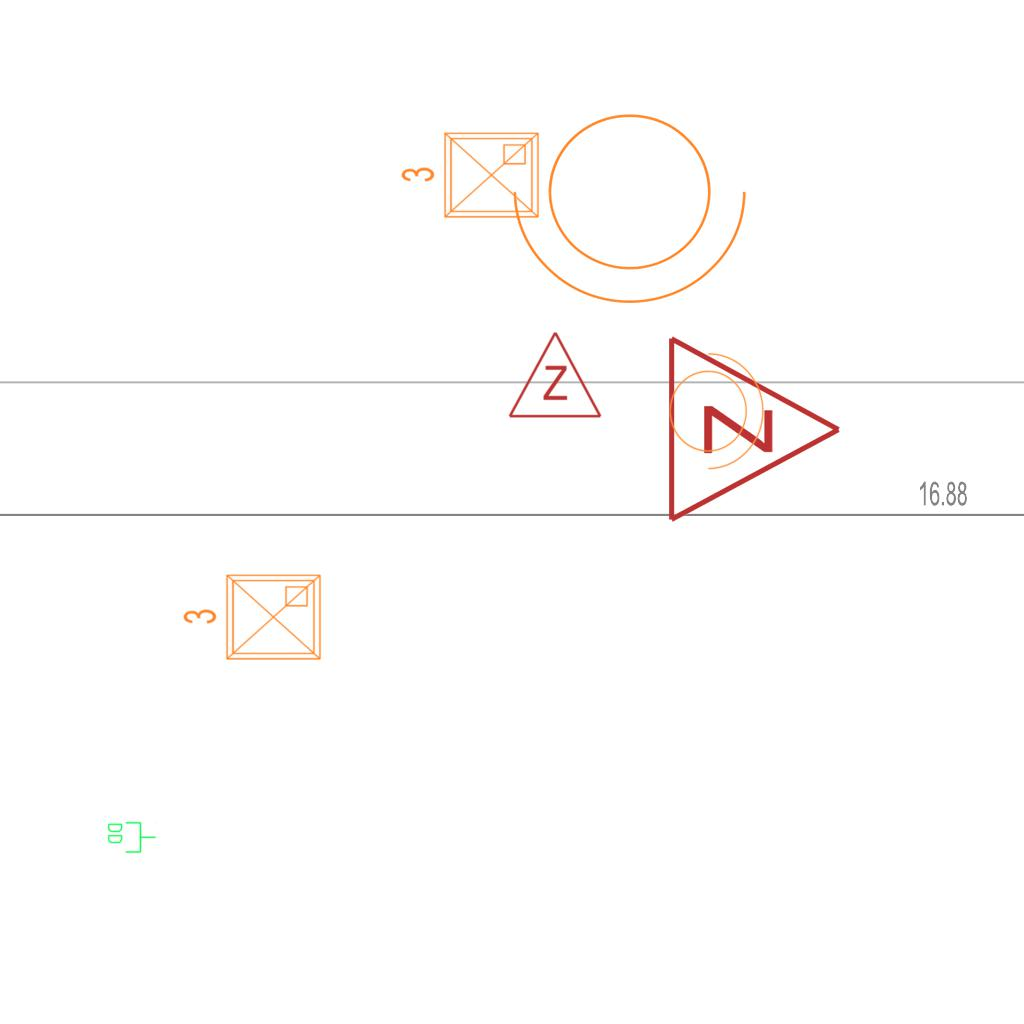Datenanschluss_zweifach: (106, 820, 157, 854)
Einbaudownlights_LED_Konferenzraeume: (178, 567, 328, 671), (396, 125, 546, 229)
Scheinwerfer_fuer_Alarmbeleuchtung: (504, 89, 768, 314), (657, 342, 769, 474)
Zimmersignalleuchte: (654, 329, 854, 525), (505, 325, 603, 425)
